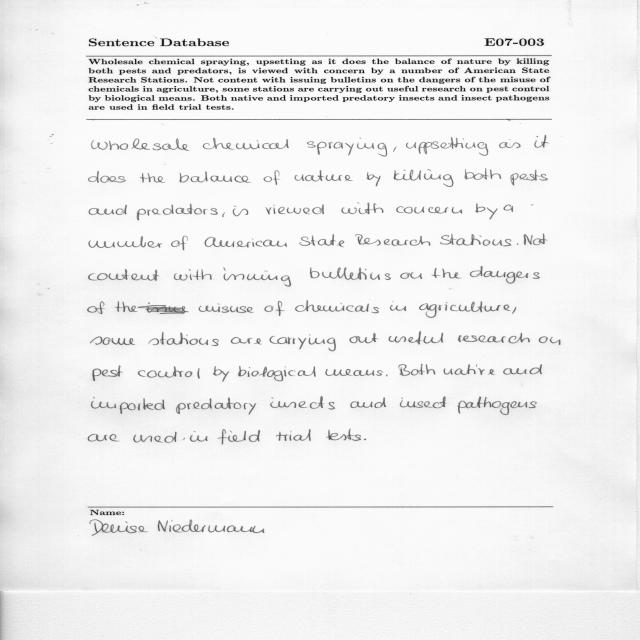word: (92, 120, 190, 151), (419, 301, 511, 318), (406, 137, 488, 156), (307, 138, 387, 157), (458, 396, 537, 415), (137, 204, 218, 221), (176, 398, 256, 415), (223, 268, 291, 287), (470, 266, 540, 284), (91, 397, 165, 414), (238, 366, 316, 381), (269, 335, 336, 352), (394, 169, 454, 187), (310, 267, 391, 280), (203, 138, 289, 150), (295, 301, 379, 313), (148, 332, 219, 346), (115, 301, 189, 314), (205, 237, 287, 248), (356, 234, 431, 246), (89, 236, 162, 248), (179, 171, 251, 183), (440, 234, 511, 246), (270, 397, 335, 410), (89, 269, 159, 281), (138, 366, 200, 379), (458, 333, 530, 343), (389, 332, 443, 345), (218, 429, 260, 445), (295, 170, 353, 181), (499, 121, 521, 149), (510, 170, 548, 186), (265, 205, 324, 215), (299, 235, 344, 248), (443, 364, 495, 375), (400, 396, 447, 408), (199, 303, 254, 313), (396, 206, 462, 214), (133, 432, 177, 443), (93, 365, 123, 381), (342, 203, 384, 214), (89, 171, 126, 183), (399, 364, 436, 376), (503, 364, 542, 375), (276, 429, 311, 441), (174, 270, 212, 281), (327, 429, 361, 441), (325, 369, 383, 376), (465, 169, 501, 180), (91, 336, 135, 345), (350, 398, 386, 409), (89, 205, 127, 215), (476, 204, 498, 220), (264, 301, 285, 316), (432, 268, 462, 278), (349, 333, 378, 343), (183, 431, 208, 442), (524, 234, 548, 245), (213, 366, 229, 382), (140, 173, 165, 183), (89, 434, 120, 442), (264, 170, 280, 185), (171, 236, 188, 250), (87, 301, 105, 314), (231, 337, 262, 344), (367, 172, 381, 186), (534, 135, 549, 148), (539, 336, 560, 345), (400, 272, 422, 279), (233, 206, 248, 216), (390, 305, 406, 311), (504, 204, 514, 212), (513, 307, 517, 314), (393, 146, 397, 152), (222, 212, 225, 217), (364, 439, 366, 441), (517, 243, 518, 245), (386, 375, 387, 377)
